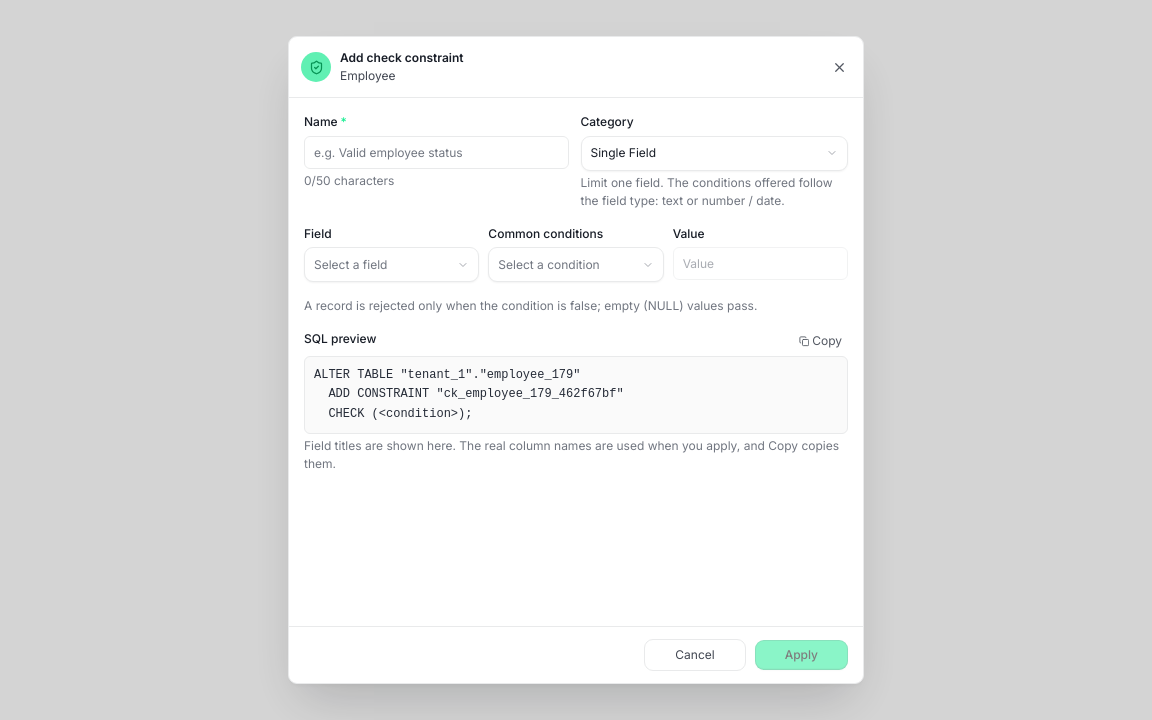
Test case: CheckConstraintFormModal › shows only the SQL box for Custom SQL Expression, prefilled with this table and a new name
Click the button "Single Field" at [623, 152], box [580,136,848,170]
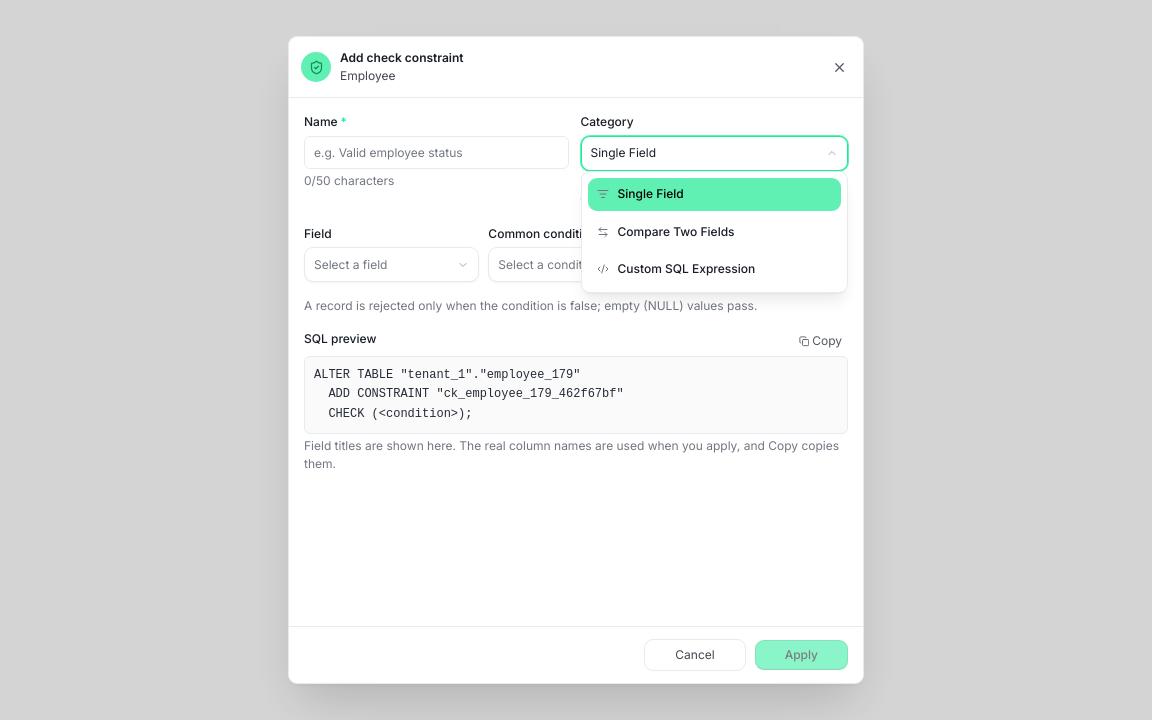
Click the text "Custom SQL Expression" at [686, 268], box [618,261,755,276]
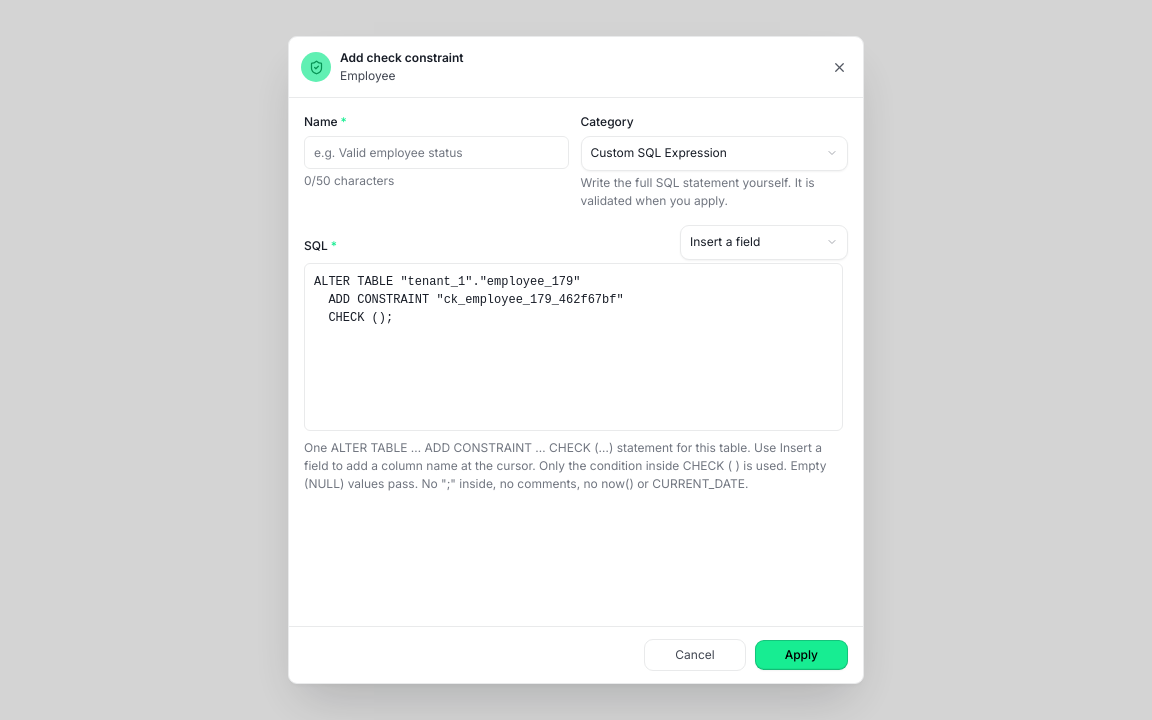
Expected: the field labelled "Condition" is not shown
Result: the text labelled "SQL preview" is gone
